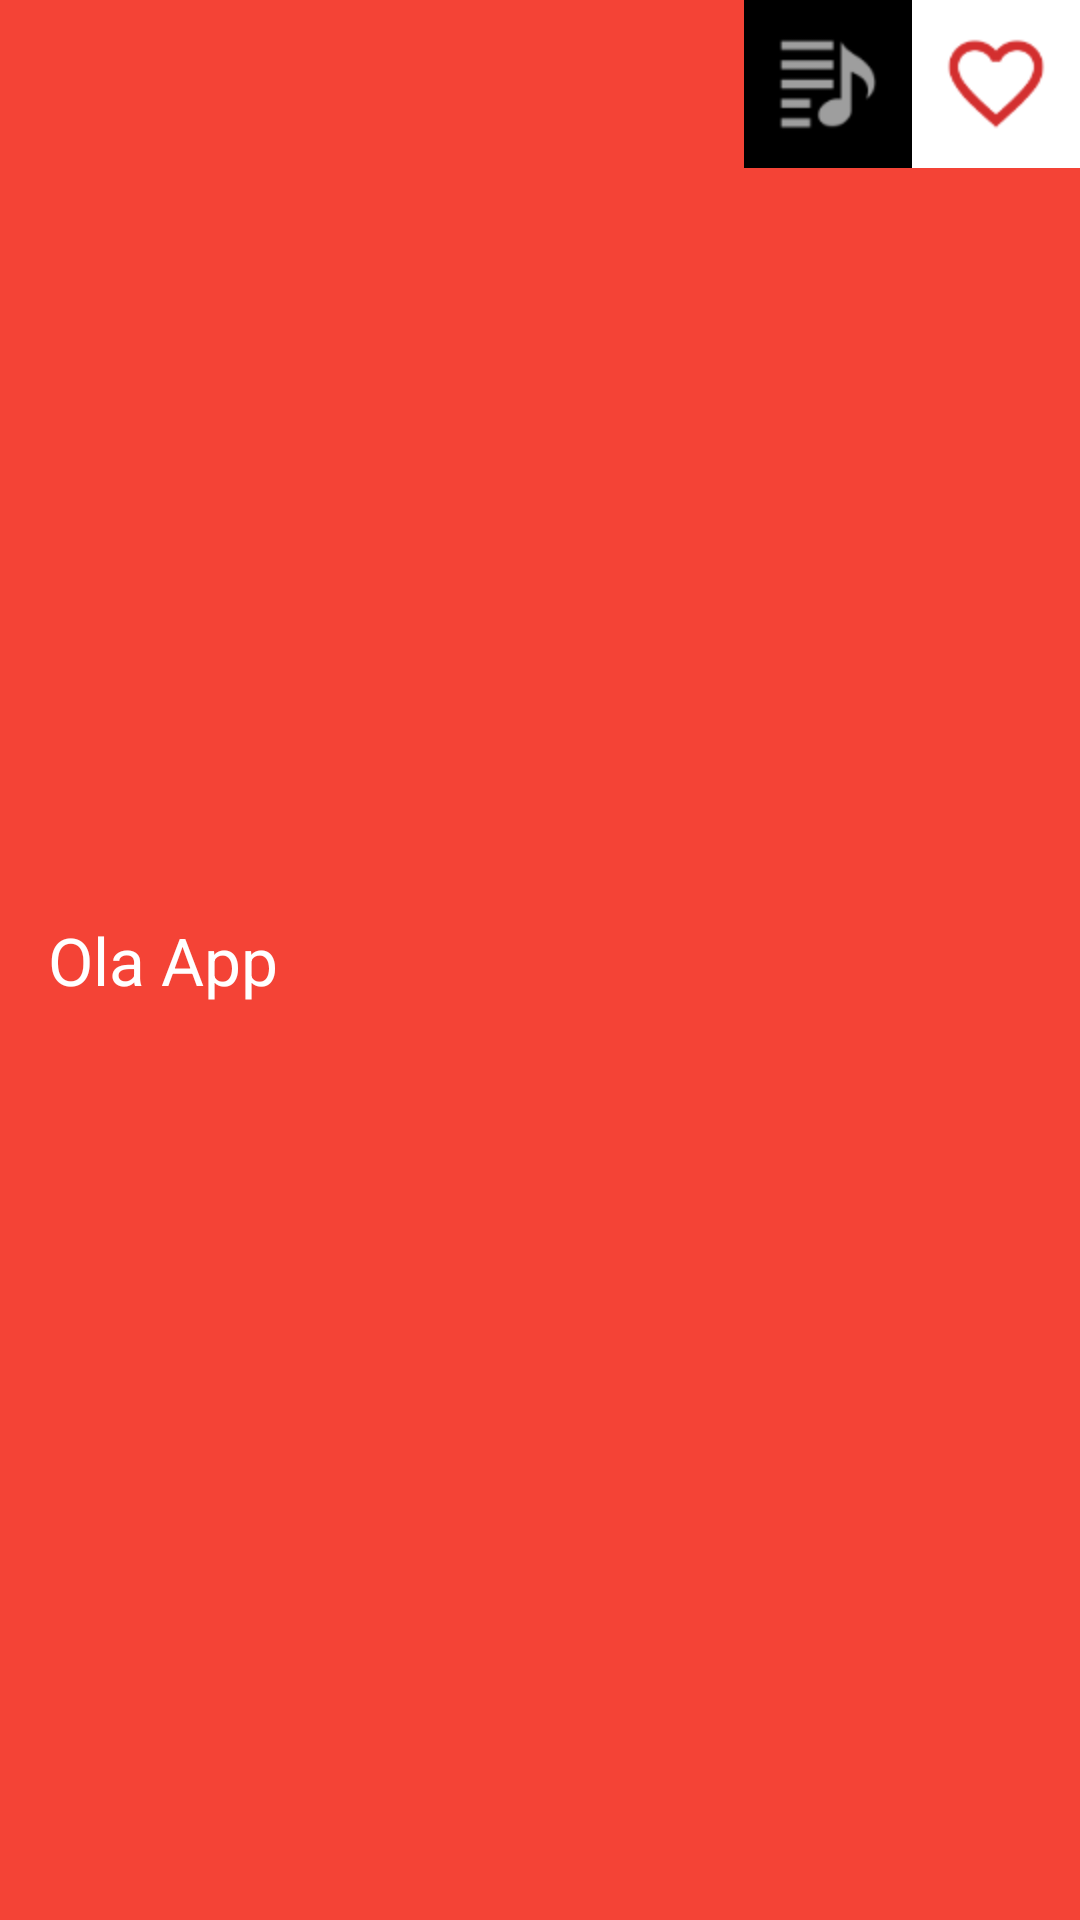

Named icons in this screenshot (1080 x 1920) and their centers, [x,y]:
nofav: [996,84]
playlist: [828,84]
